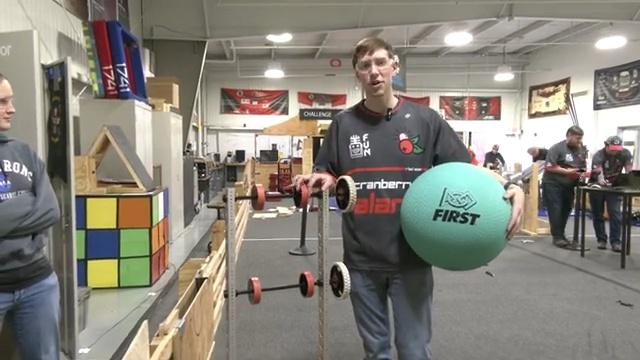ALGAE: (398, 160, 513, 271)
